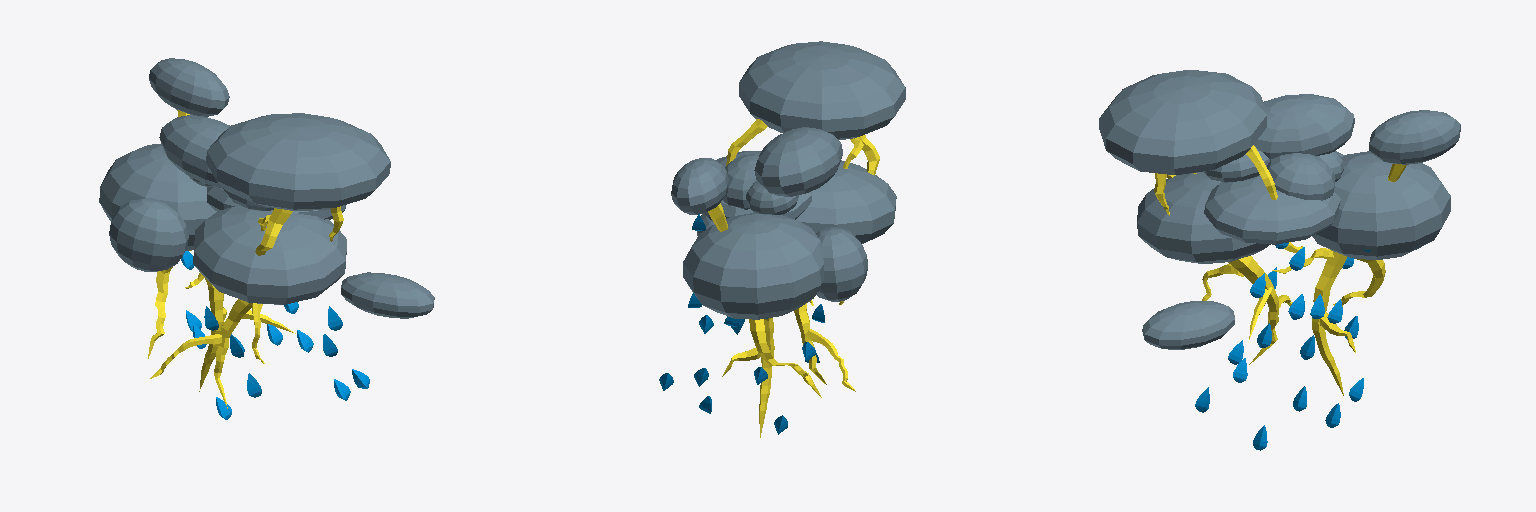
The picture shows the model from 3 angles: view 1: azimuth 30°, elevation 25°; view 2: azimuth 150°, elevation 25°; view 3: azimuth 270°, elevation 25°; orthographic projection.
Parts seen in each view (by area): view 1: group[number redacted], group[number redacted], group[number redacted], group[number redacted], group[number redacted], group[number redacted], group[number redacted], group[number redacted], group[number redacted], group[number redacted], group[number redacted], group[number redacted]; view 2: group[number redacted], group[number redacted], group[number redacted], group[number redacted], group[number redacted], group[number redacted], group[number redacted], group[number redacted], group[number redacted], group[number redacted], group[number redacted], group[number redacted] (+1 smaller); view 3: group[number redacted], group[number redacted], group[number redacted], group[number redacted], group[number redacted], group[number redacted], group[number redacted], group[number redacted], group[number redacted], group[number redacted], group[number redacted], group[number redacted] (+1 smaller).
Boxes of the visible parts, x1,y1,x2,y2 form: group[number redacted]: [206, 113, 390, 210]; group[number redacted]: [193, 207, 346, 304]; group[number redacted]: [99, 144, 216, 250]; group[number redacted]: [109, 198, 188, 271]; group[number redacted]: [149, 58, 229, 116]; group[number redacted]: [341, 272, 434, 318]; group[number redacted]: [181, 251, 369, 419]; group[number redacted]: [159, 115, 229, 188]; group[number redacted]: [150, 299, 295, 408]; group[number redacted]: [148, 250, 226, 391]; group[number redacted]: [207, 186, 345, 219]; group[number redacted]: [255, 208, 292, 255]; group[number redacted]: [739, 41, 905, 139]; group[number redacted]: [683, 213, 823, 319]; group[number redacted]: [796, 160, 896, 243]; group[number redacted]: [754, 127, 842, 196]; group[number redacted]: [816, 227, 867, 301]; group[number redacted]: [671, 158, 728, 214]; group[number redacted]: [722, 318, 821, 437]; group[number redacted]: [659, 214, 824, 434]; group[number redacted]: [723, 154, 759, 209]; group[number redacted]: [794, 301, 855, 391]; group[number redacted]: [746, 181, 798, 214]; group[number redacted]: [704, 151, 811, 221]; group[number redacted]: [1099, 70, 1266, 174]; group[number redacted]: [1312, 151, 1450, 259]; group[number redacted]: [1137, 172, 1270, 263]; group[number redacted]: [1204, 175, 1340, 244]; group[number redacted]: [1254, 94, 1354, 159]; group[number redacted]: [1195, 243, 1370, 450]; group[number redacted]: [1369, 110, 1460, 164]; group[number redacted]: [1142, 301, 1234, 349]; group[number redacted]: [1272, 248, 1385, 395]; group[number redacted]: [1267, 153, 1335, 200]; group[number redacted]: [1202, 256, 1292, 364]; group[number redacted]: [1204, 148, 1269, 182].
Bounding box in the file's own units: 1 × 1.35 × 1.33.